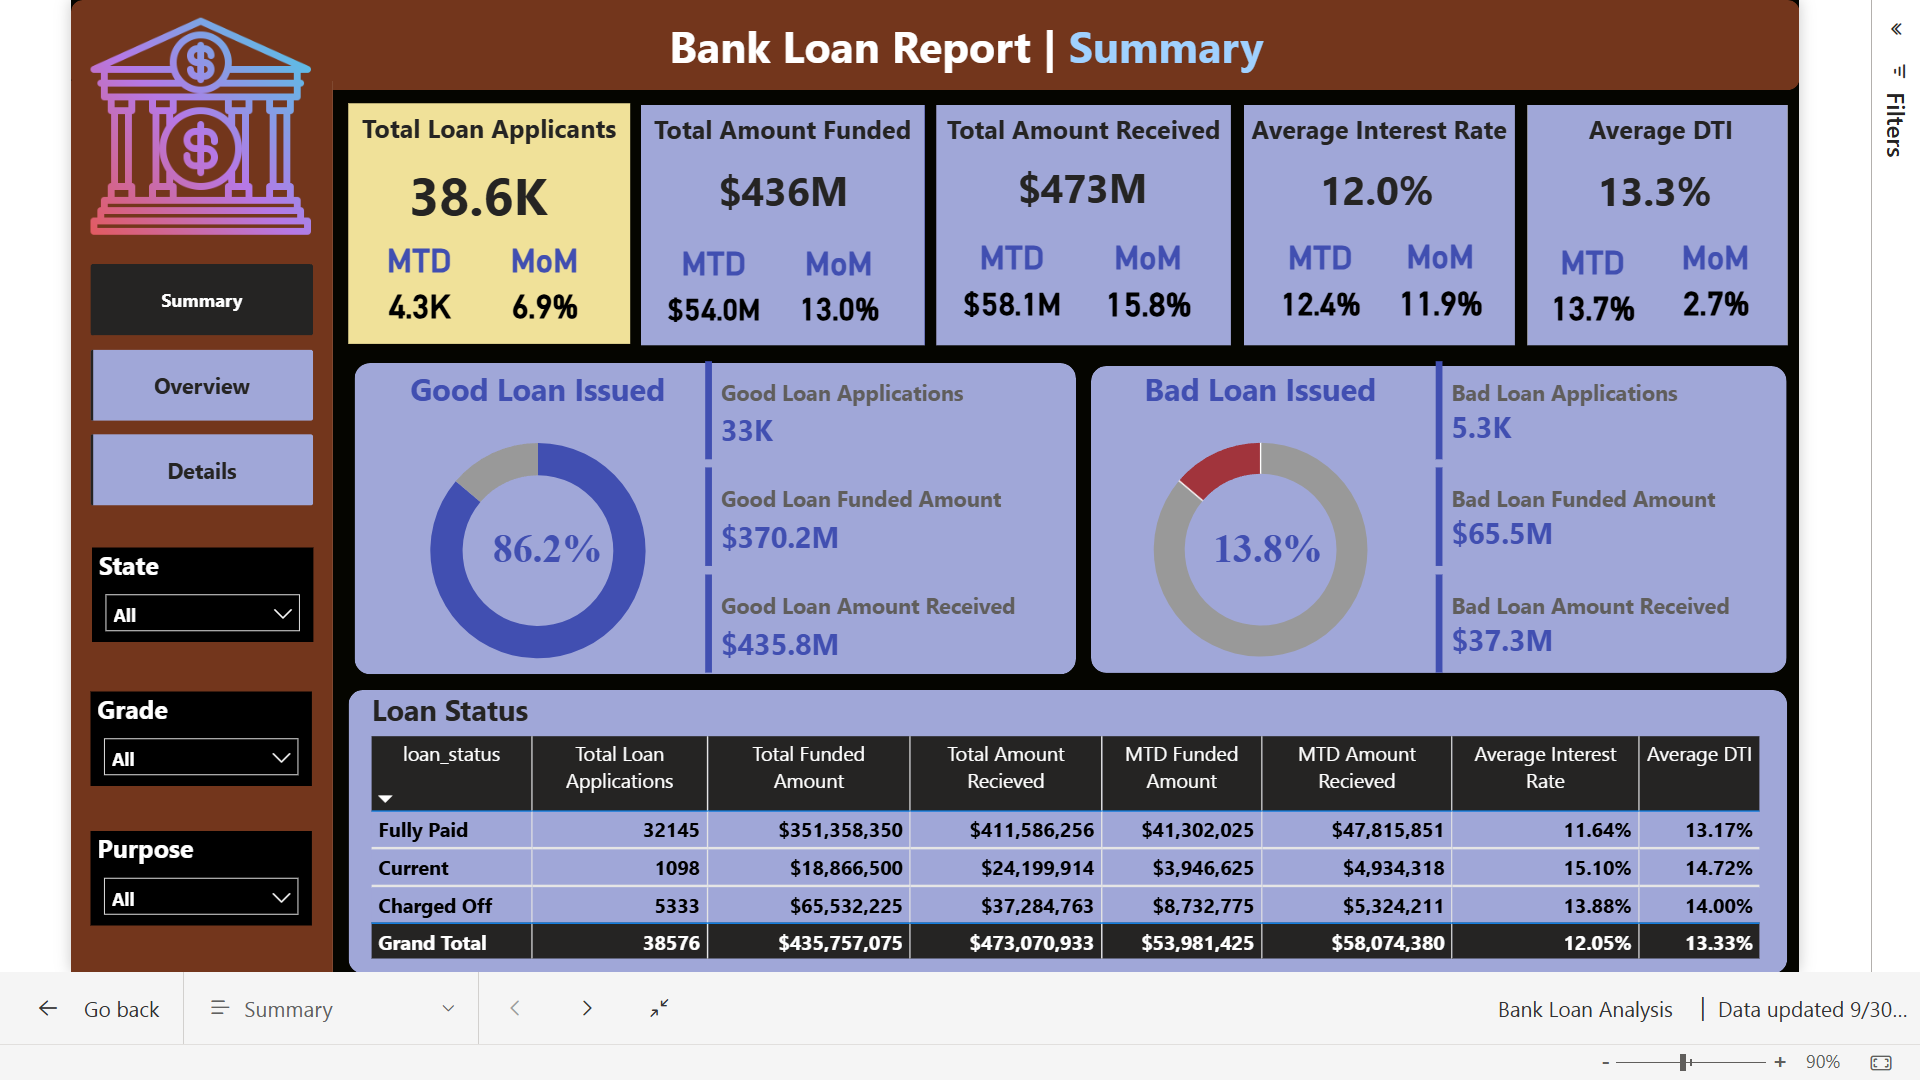

This screenshot's page, from the dashboard's own definition file:
{"tool":"powerbi","page":{"name":"Summary","canvas":[1280,720],"ordinal":0},"visuals":[{"type":"shape","title":"Bank Loan Report | Summarr","box":[0,0,1280.4,66.8],"z":0},{"type":"textbox","box":[205.2,76.3,208.4,178.1],"z":0,"group":"g1"},{"type":"textbox","box":[422.7,77.9,210,178.1],"z":0,"group":"g2"},{"type":"textbox","box":[641,77.9,217.9,178.1],"z":0,"group":"g3"},{"type":"textbox","box":[868.9,77.9,200.4,178.1],"z":0,"group":"g4"},{"type":"textbox","box":[1078.4,77.9,192.5,178.1],"z":0,"group":"g5"},{"type":"textbox","box":[383.3,6.4,559.9,54.1],"z":1000},{"type":"card","fields":{"Values":["bank_loan_data.Total Amount Recieved"]},"box":[691.9,116.2,112.9,47.7],"z":1000,"group":"g3"},{"type":"card","fields":{"Values":["bank_loan_data.Total Funded Amount"]},"box":[472.5,117.8,109.8,47.7],"z":1000,"group":"g2"},{"type":"card","fields":{"Values":["bank_loan_data.Average Interest Rate"]},"box":[913.6,117.8,106.6,46.1],"z":1000,"group":"g4"},{"type":"card","fields":{"Values":["Data Table.Avg DTI"]},"box":[1119.1,117.8,105,47.7],"z":1000,"group":"g5"},{"type":"card","fields":{"Values":["bank_loan_data.Total Loan Applicants"]},"box":[243.1,120.3,116.1,44.5],"z":1000,"group":"g1"},{"type":"shape","box":[0,60.4,194.1,660.1],"z":2000},{"type":"group","id":"g1","title":"Group 1","box":[205.2,76.3,208.4,178.1],"z":3000},{"type":"group","id":"g2","title":"Group 1","box":[422.7,77.9,210,178.1],"z":4000},{"type":"group","id":"g3","title":"Group 1","box":[641,77.9,217.9,178.1],"z":5000},{"type":"group","id":"g4","title":"Group 1","box":[868.9,77.9,200.4,178.1],"z":6000},{"type":"card","title":"MTD","fields":{"Values":["Data Table.MTD Amount Recieved"]},"box":[655.9,176.6,82.7,68.4],"z":6000,"group":"g3"},{"type":"card","title":"MTD","fields":{"Values":["bank_loan_data.MTD Average Interest Rate"]},"box":[887,176.9,77.2,68.4],"z":6000,"group":"g4"},{"type":"card","title":"MTD","fields":{"Values":["bank_loan_data.MTD"]},"box":[217.8,178.3,80.1,67.1],"z":6000,"group":"g1"},{"type":"card","title":"MTD","fields":{"Values":["bank_loan_data.MTD Avg DTI"]},"box":[1090,179.9,74,67.1],"z":6000,"group":"g5"},{"type":"card","title":"MTD","fields":{"Values":["bank_loan_data.MTD Funded Amount"]},"box":[435.7,180.7,80.8,67.1],"z":6000,"group":"g2"},{"type":"group","id":"g5","title":"Group 1","box":[1078.4,77.9,192.5,178.1],"z":7000},{"type":"group","id":"g6","title":"Group 2","box":[210,268.8,534.4,243.5],"z":8000},{"type":"card","title":"MoM","fields":{"Values":["bank_loan_data.PMTD Average Interest Rate"]},"box":[975.3,175.3,77.2,68.4],"z":8500,"group":"g4"},{"type":"card","title":"MoM","fields":{"Values":["Data Table.MoM Amount Recieved"]},"box":[755.5,176.6,84.3,68.4],"z":8500,"group":"g3"},{"type":"card","title":"MoM","fields":{"Values":["Data Table.MoM Avg DTI"]},"box":[1179.5,176.6,76.3,66.8],"z":8500,"group":"g5"},{"type":"card","title":"MoM","fields":{"Values":["bank_loan_data.MoM"]},"box":[309.4,178.3,81.3,67.1],"z":8500,"group":"g1"},{"type":"card","title":"MoM","fields":{"Values":["Data Table.MoM Funded Applications"]},"box":[528,180.7,81.9,67.1],"z":8500,"group":"g2"},{"type":"shape","box":[210,268.8,534.4,230.6],"z":9000,"group":"g6"},{"type":"shape","box":[755.5,270.7,515.4,227.4],"z":9000,"group":"g7"},{"type":"card","fields":{"Values":["bank_loan_data.Good Loan %"]},"box":[305.4,378.6,93.8,52.5],"z":9000},{"type":"shape","title":"LO","box":[205.2,510.6,1065.7,210],"z":9000,"group":"g8"},{"type":"cardVisual","fields":{"Data":["bank_loan_data.Good Loan Applications","bank_loan_data.Good Loan Funded Amount","bank_loan_data.Good Loan Amount Received"]},"box":[464.5,262.5,273.6,243.4],"z":10000},{"type":"donutChart","title":"Good Loan Issued","fields":{"Category":["bank_loan_data.Good Loan Vs Bad Loan"],"Y":["bank_loan_data.Total Loan Applicants"]},"box":[235.5,272.3,220,240],"z":10000,"group":"g6"},{"type":"donutChart","title":"Bad Loan Issued","fields":{"Category":["bank_loan_data.Good Loan Vs Bad Loan"],"Y":["bank_loan_data.Total Loan Applicants","Data Table.Bad Loan %"]},"box":[771.5,272.3,219.5,238.6],"z":10000,"group":"g7"},{"type":"group","id":"g7","title":"Group 2","box":[218,270.7,1052.9,449.3],"z":11000},{"type":"card","fields":{"Values":["bank_loan_data.Bad Loan %"]},"box":[839.8,378.6,92.3,52.5],"z":12000},{"type":"cardVisual","fields":{"Data":["bank_loan_data.Bad Loan Applications","bank_loan_data.Bad Loan Funded Amount","bank_loan_data.Bad Loan Amount Received"]},"box":[1005.3,262.5,275.2,243.4],"z":13000},{"type":"group","id":"g8","title":"Group 3","box":[205.2,510.6,1065.7,210],"z":14000},{"type":"tableEx","fields":{"Values":["bank_loan_data.loan_status","bank_loan_data.Total Loan Applicants","bank_loan_data.Total Funded Amount","bank_loan_data.Total Amount Recieved","bank_loan_data.MTD Funded Amount","Data Table.MTD Amount Recieved","bank_loan_data.Average Interest Rate","Data Table.Avg DTI"]},"box":[216,539.9,1046.6,178.1],"z":14001,"group":"g8"},{"type":"textbox","box":[217.9,505.8,135.2,41.4],"z":15000},{"type":"slicer","title":"State","fields":{"Values":["bank_loan_data.address_state"]},"box":[15.9,405.6,163.8,70],"z":16000},{"type":"slicer","title":"Grade","fields":{"Values":["bank_loan_data.grade"]},"box":[14.3,512.2,163.8,70],"z":17000},{"type":"slicer","title":"Purpose","fields":{"Values":["bank_loan_data.purpose"]},"box":[14.3,615.6,163.8,70],"z":18000},{"type":"slicer","box":[218,547,150,173],"z":18002,"group":"g7"},{"type":"pageNavigator","box":[14.3,195.6,165.4,181.3],"z":19000},{"type":"image","box":[4.8,8,182.9,173.4],"z":20000}]}

Visuals, with their boxes on the page's 1280x720 design canvas (x1, y1, x2, y2). These are canvas units, not pixel positions in the 1920x1080 screenshot, which may show the page scaled, cropped or inside an application window:
"Bank Loan Report | Summarr" shape: BBox(0, 0, 1280, 67)
textbox: BBox(205, 76, 414, 254)
textbox: BBox(423, 78, 633, 256)
textbox: BBox(641, 78, 859, 256)
textbox: BBox(869, 78, 1069, 256)
textbox: BBox(1078, 78, 1271, 256)
textbox: BBox(383, 6, 943, 60)
card - bank_loan_data.Total Amount Recieved: BBox(692, 116, 805, 164)
card - bank_loan_data.Total Funded Amount: BBox(472, 118, 582, 166)
card - bank_loan_data.Average Interest Rate: BBox(914, 118, 1020, 164)
card - Data Table.Avg DTI: BBox(1119, 118, 1224, 166)
card - bank_loan_data.Total Loan Applicants: BBox(243, 120, 359, 165)
shape: BBox(0, 60, 194, 720)
"Group 1" group: BBox(205, 76, 414, 254)
"Group 1" group: BBox(423, 78, 633, 256)
"Group 1" group: BBox(641, 78, 859, 256)
"Group 1" group: BBox(869, 78, 1069, 256)
"MTD" card: BBox(656, 177, 739, 245)
"MTD" card: BBox(887, 177, 964, 245)
"MTD" card: BBox(218, 178, 298, 245)
"MTD" card: BBox(1090, 180, 1164, 247)
"MTD" card: BBox(436, 181, 516, 248)
"Group 1" group: BBox(1078, 78, 1271, 256)
"Group 2" group: BBox(210, 269, 744, 512)
"MoM" card: BBox(975, 175, 1052, 244)
"MoM" card: BBox(756, 177, 840, 245)
"MoM" card: BBox(1180, 177, 1256, 243)
"MoM" card: BBox(309, 178, 391, 245)
"MoM" card: BBox(528, 181, 610, 248)
shape: BBox(210, 269, 744, 499)
shape: BBox(756, 271, 1271, 498)
card - bank_loan_data.Good Loan %: BBox(305, 379, 399, 431)
"LO" shape: BBox(205, 511, 1271, 721)
cardVisual - bank_loan_data.Good Loan Applications x bank_loan_data.Good Loan Funded Amount: BBox(464, 262, 738, 506)
"Good Loan Issued" donutChart: BBox(236, 272, 456, 512)
"Bad Loan Issued" donutChart: BBox(772, 272, 991, 511)
"Group 2" group: BBox(218, 271, 1271, 720)
card - bank_loan_data.Bad Loan %: BBox(840, 379, 932, 431)
cardVisual - bank_loan_data.Bad Loan Applications x bank_loan_data.Bad Loan Funded Amount: BBox(1005, 262, 1280, 506)
"Group 3" group: BBox(205, 511, 1271, 721)
tableEx - bank_loan_data.loan_status x bank_loan_data.Total Loan Applicants: BBox(216, 540, 1263, 718)
textbox: BBox(218, 506, 353, 547)
"State" slicer: BBox(16, 406, 180, 476)
"Grade" slicer: BBox(14, 512, 178, 582)
"Purpose" slicer: BBox(14, 616, 178, 686)
slicer: BBox(218, 547, 368, 720)
pageNavigator: BBox(14, 196, 180, 377)
image: BBox(5, 8, 188, 181)
